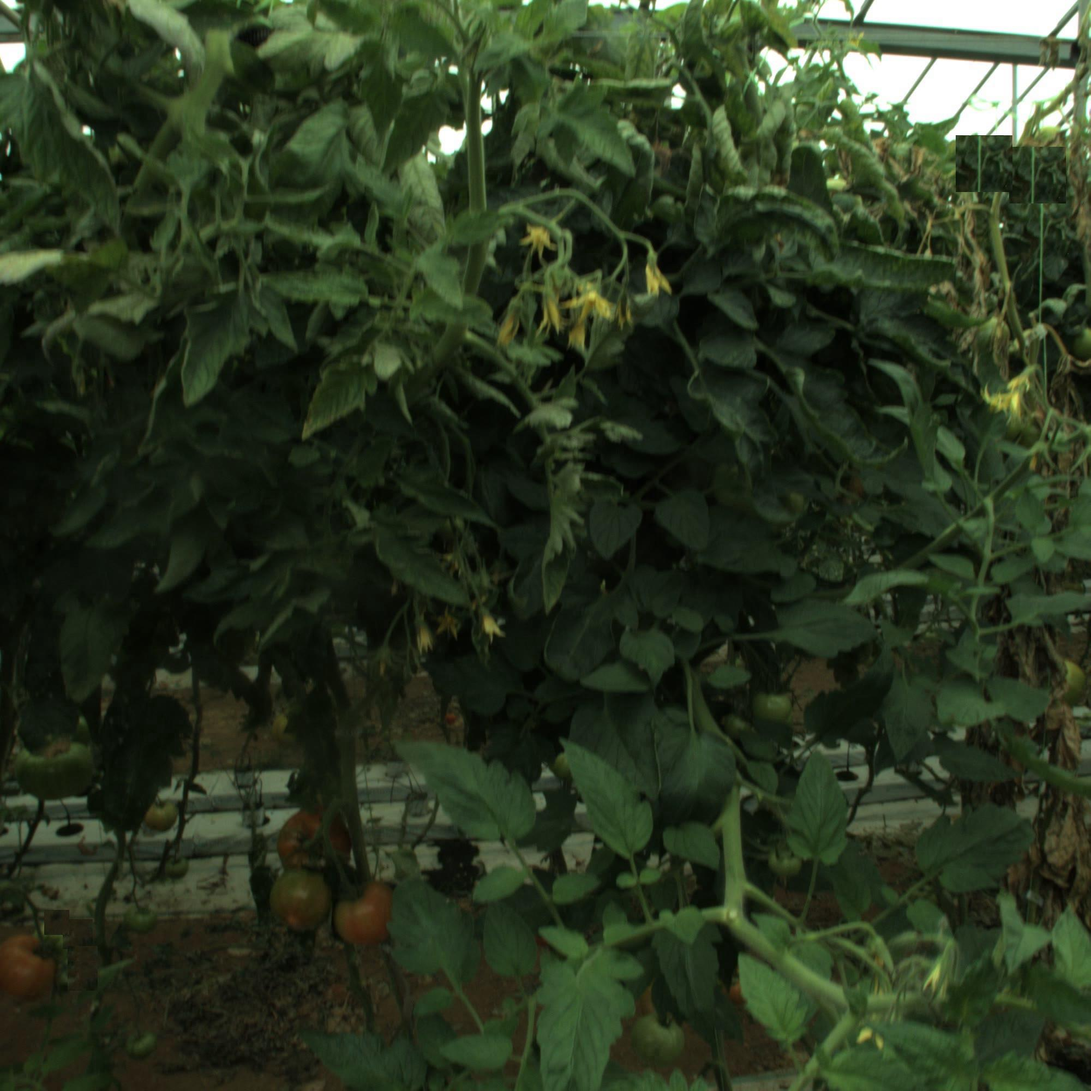fully-ripe: (337, 880, 402, 946)
semi-ripe: (275, 806, 356, 887), (1, 934, 66, 999)
unripe: (14, 727, 92, 804), (628, 1008, 685, 1065), (273, 872, 329, 928), (747, 684, 796, 733)
